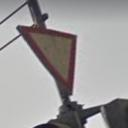preferencia: (15, 22, 81, 94)
